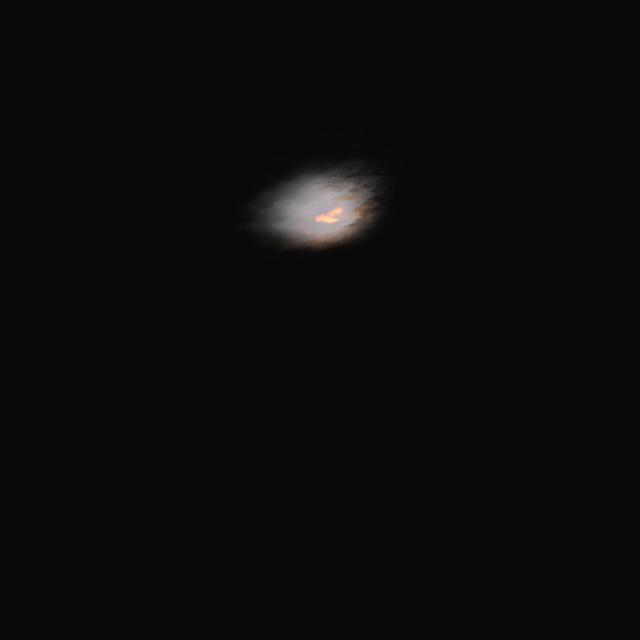fire: (307, 206, 343, 227)
smoke: (240, 150, 392, 262)
